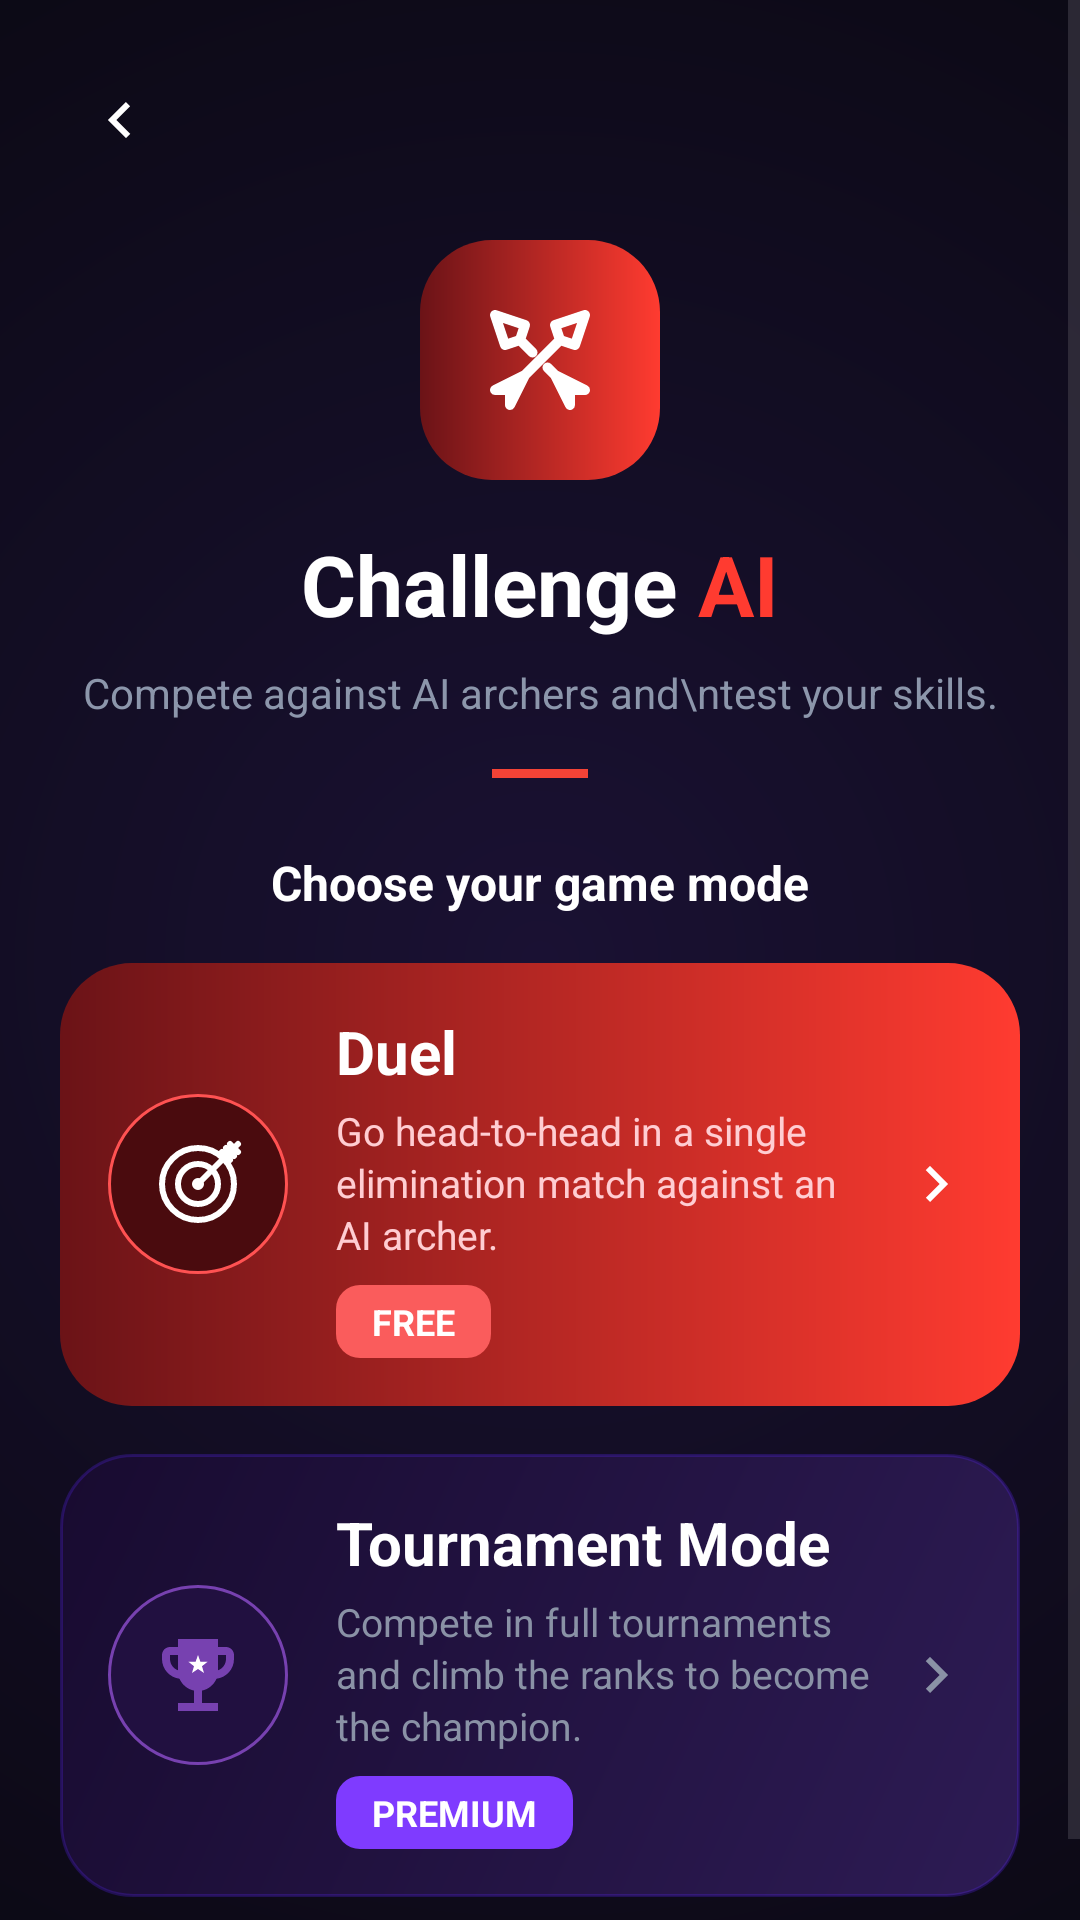

Screen size 1080 × 1920. Icon name, then its center in pixels as (x,y):
crossed arrows: (540,360)
